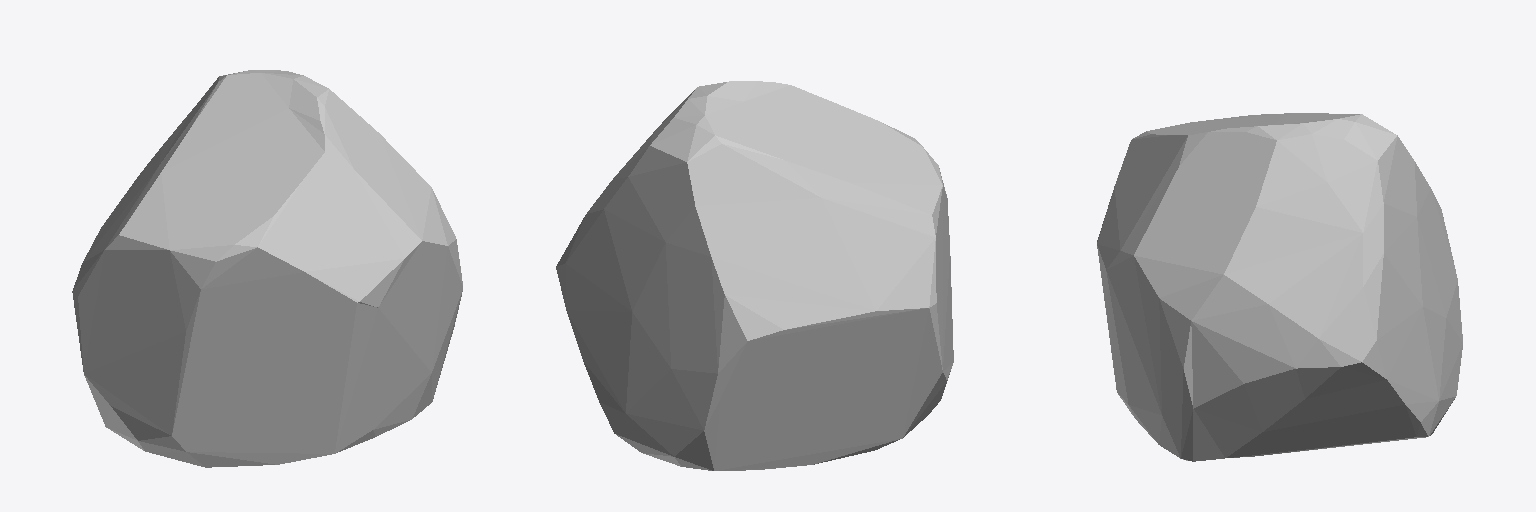
Rendered from rock3.obj.
The picture shows the model from 3 angles: view 1: azimuth 30°, elevation 25°; view 2: azimuth 150°, elevation 25°; view 3: azimuth 270°, elevation 25°; orthographic projection.
Parts seen in each view (by area): view 1: Stone_5_Sphere.005; view 2: Stone_5_Sphere.005; view 3: Stone_5_Sphere.005.
Part boxes in pixels (bbox=[...]): Stone_5_Sphere.005: bbox=[72, 70, 462, 467]; Stone_5_Sphere.005: bbox=[556, 81, 953, 470]; Stone_5_Sphere.005: bbox=[1097, 113, 1462, 461].
Size of the model in its own units: 3.66 by 3.16 by 3.35.